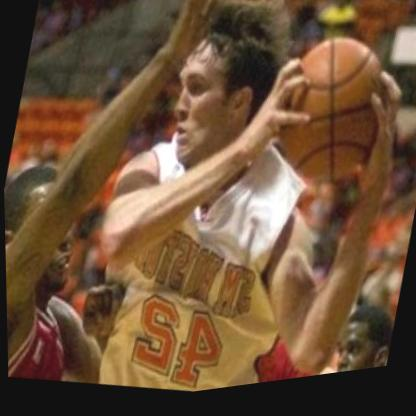basketball: (261, 26, 405, 206)
